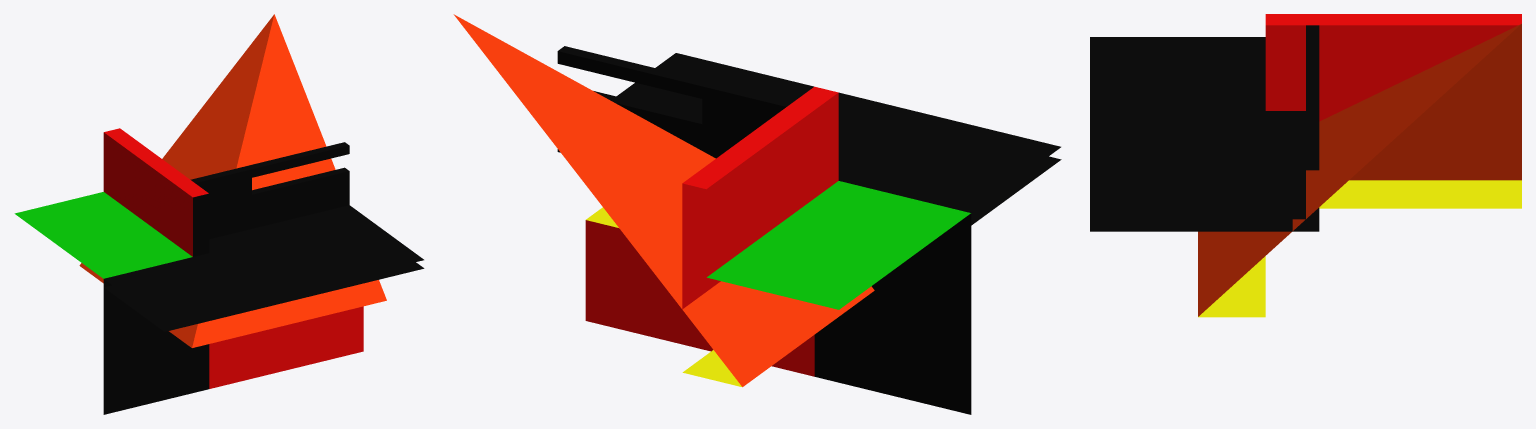
3 renders of one model, left to right at view 1: azimuth 30°, elevation 25°; view 2: azimuth 150°, elevation 25°; view 3: azimuth 270°, elevation 25°, orthographic. The views are drawn at different scales.
Parts seen in each view (by area): view 1: None_S_P_E_E_W_P_E_E_None; view 2: None_S_P_E_E_W_P_E_E_None; view 3: None_S_P_E_E_W_P_E_E_None.
Part boxes in pixels (x1,y1,x2,y2): None_S_P_E_E_W_P_E_E_None: (14,14,424,414); None_S_P_E_E_W_P_E_E_None: (453,14,1061,414); None_S_P_E_E_W_P_E_E_None: (1090,14,1521,317).
Size of the model in its own units: 100 by 100 by 100.
